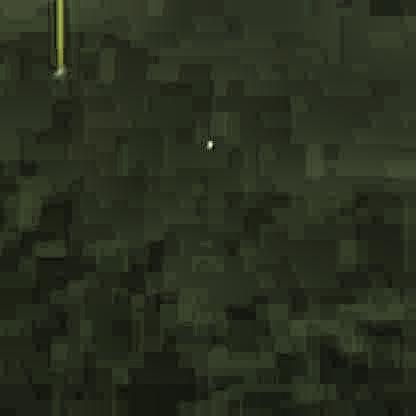golfball: (202, 138, 212, 148)
